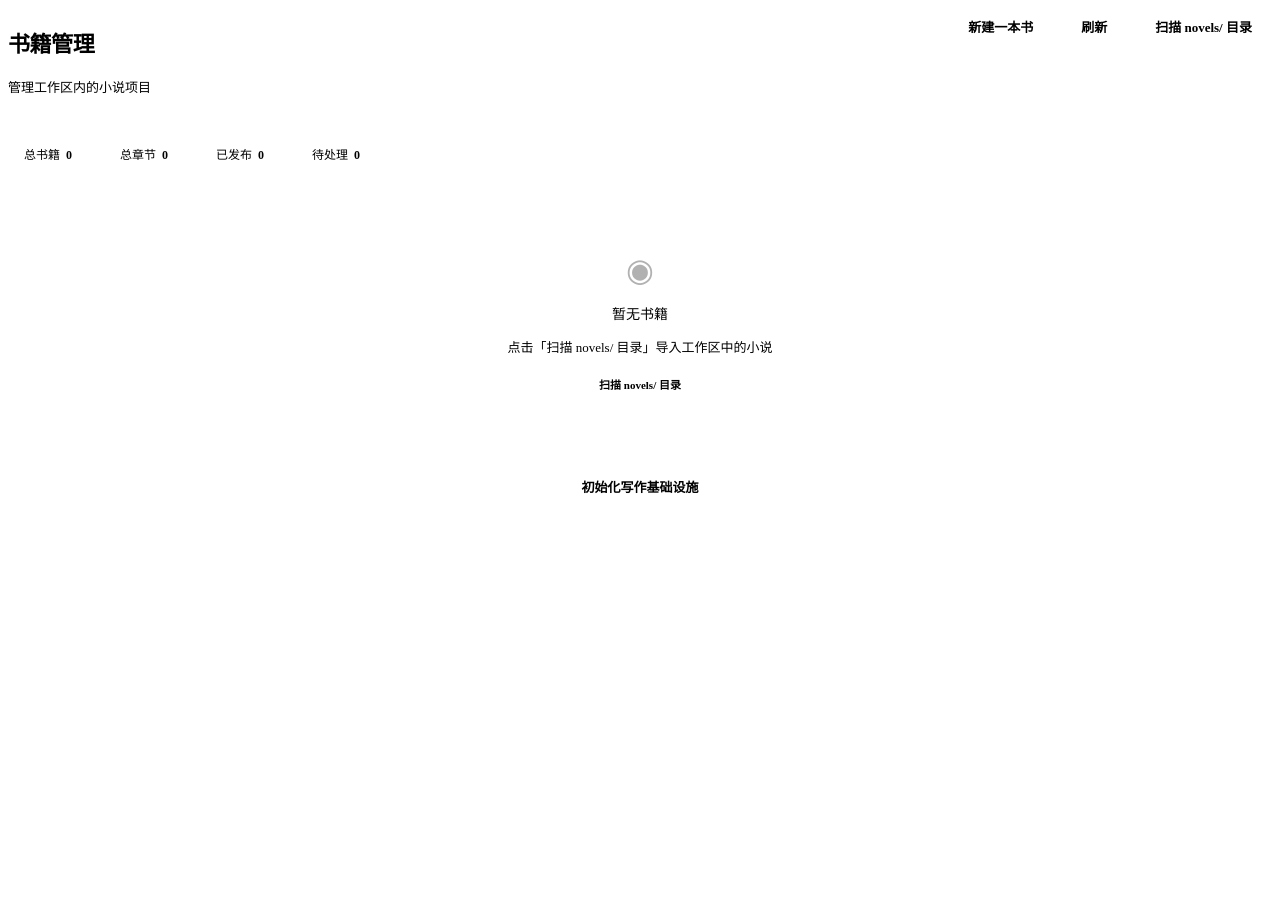
Test: BooksPage book entry › shows inline error when POST returns 4xx
This screenshot has width=1280, height=900.
Click the button "新建一本书" at (1001, 26), box [948,8,1053,45]
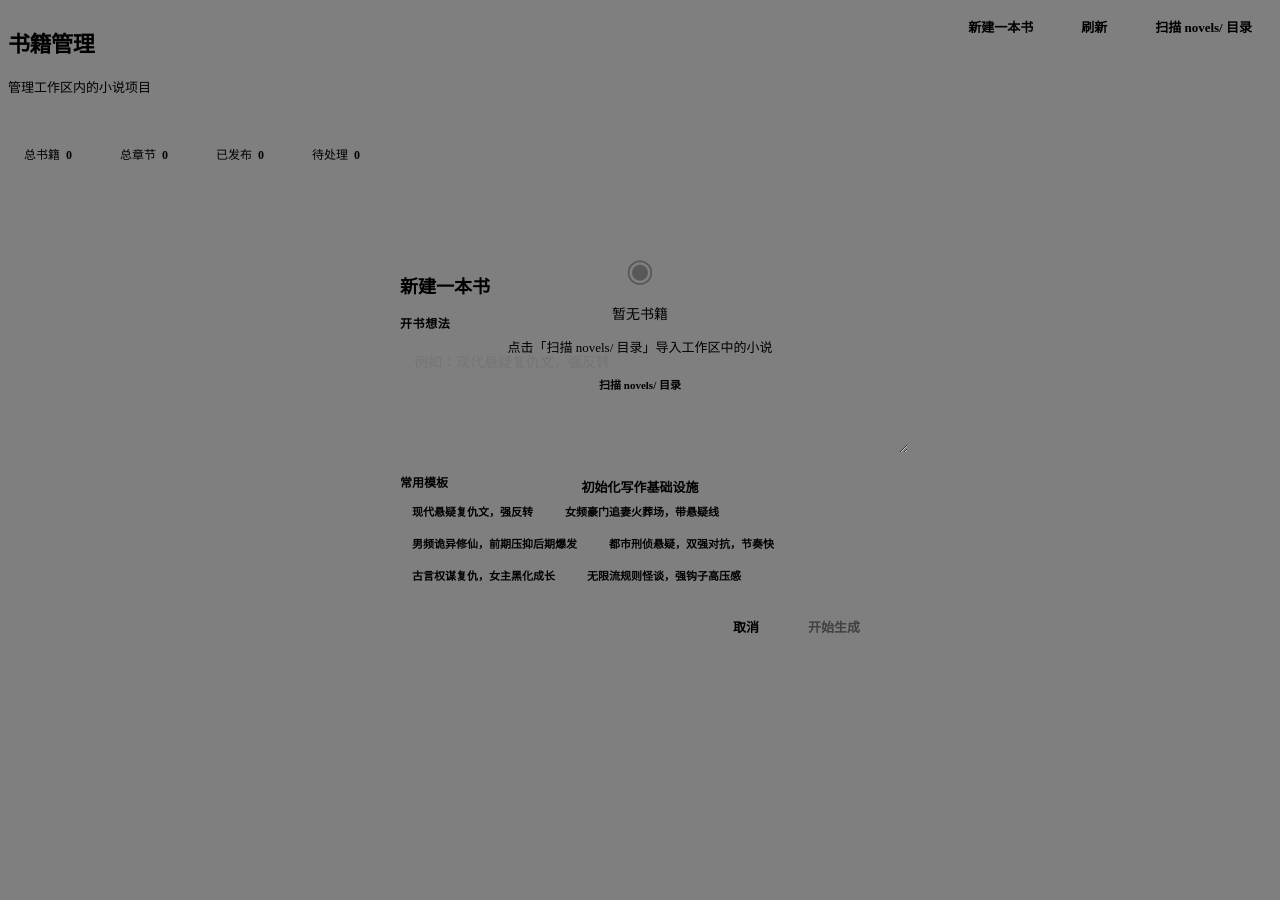
Type "重名书" into the text box labelled "开书想法" at (654, 396), box [400,340,908,453]
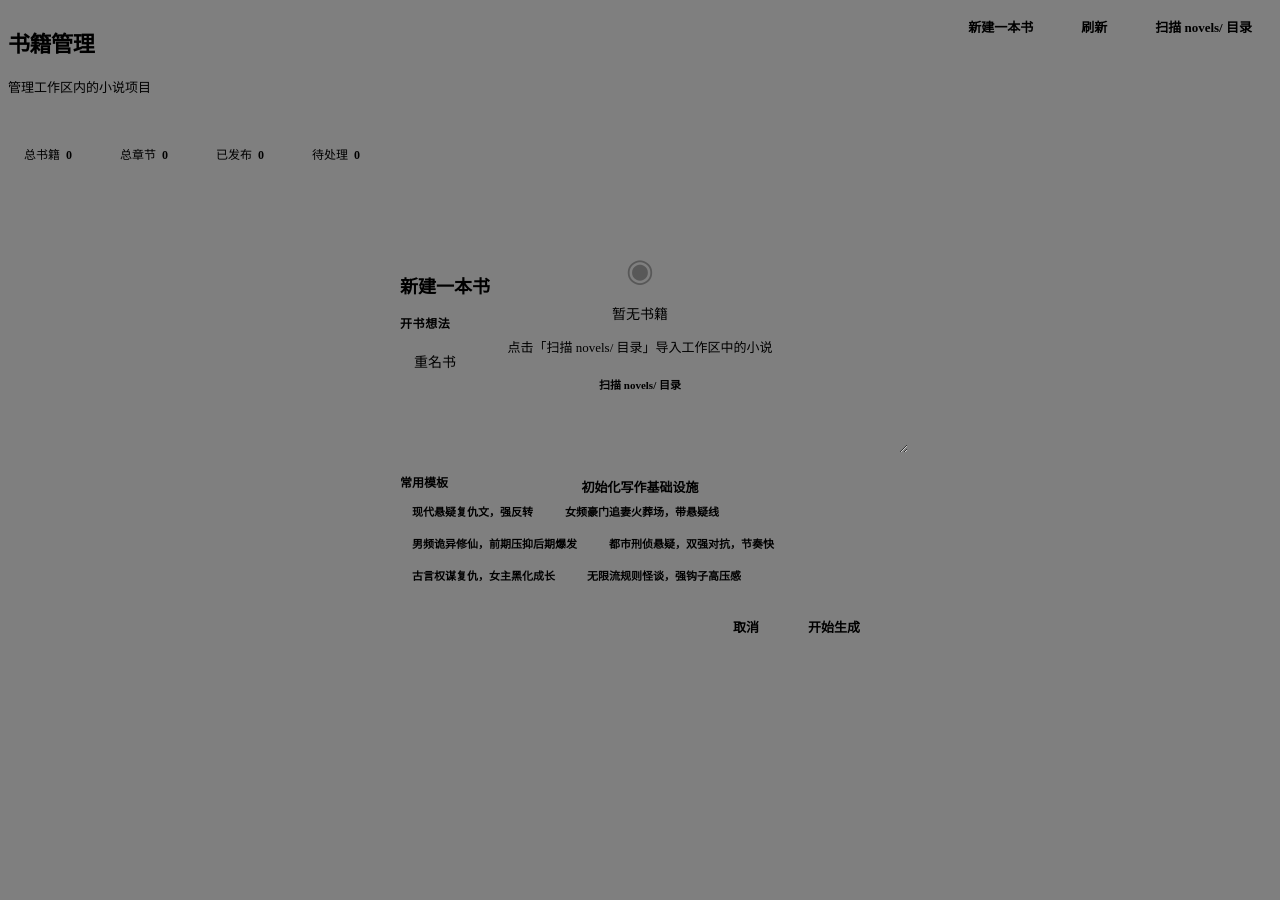
Click the button "开始生成" at (834, 627), box [788,607,880,646]
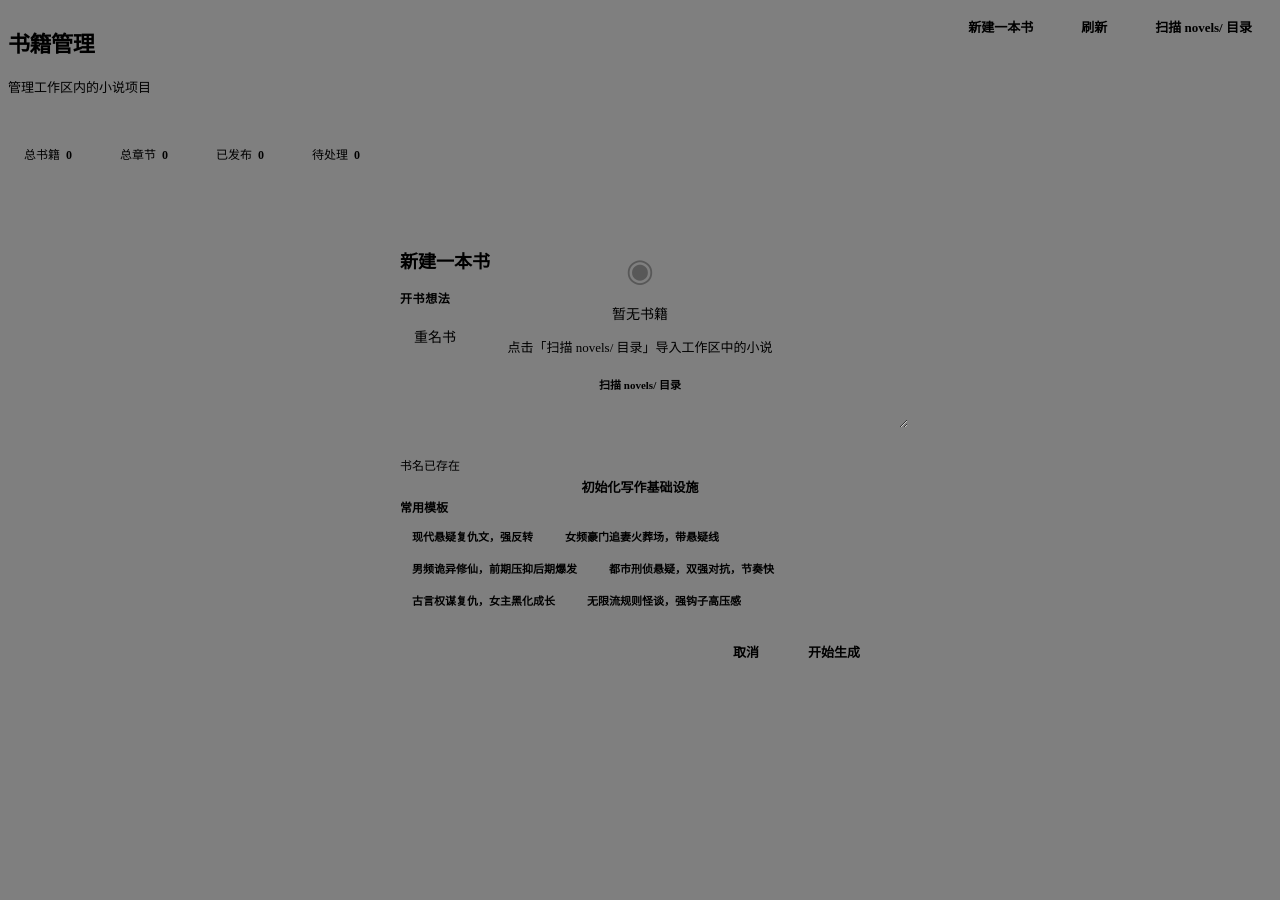
Expected: the text "书名已存在" is shown, [400,459,460,473]
